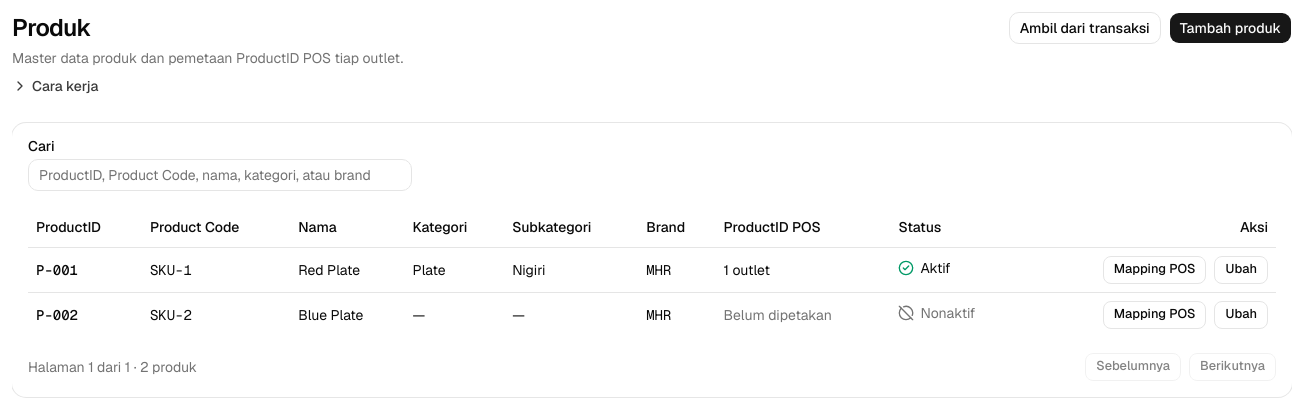
it: ProductsView — daftar › pencarian tanpa hasil
Expected: the text "Red Plate" is shown, [290,247,405,292]
Type "zzz" into the field labelled "Cari" at point(220, 175), box [28,159,412,191]
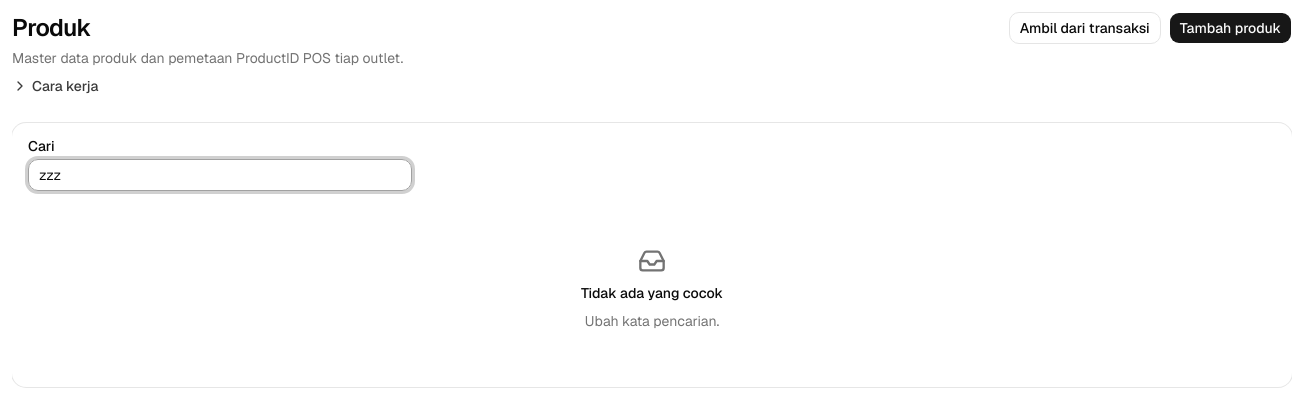
Result: the text "Tidak ada yang cocok" is shown at [581,283,723,303]
